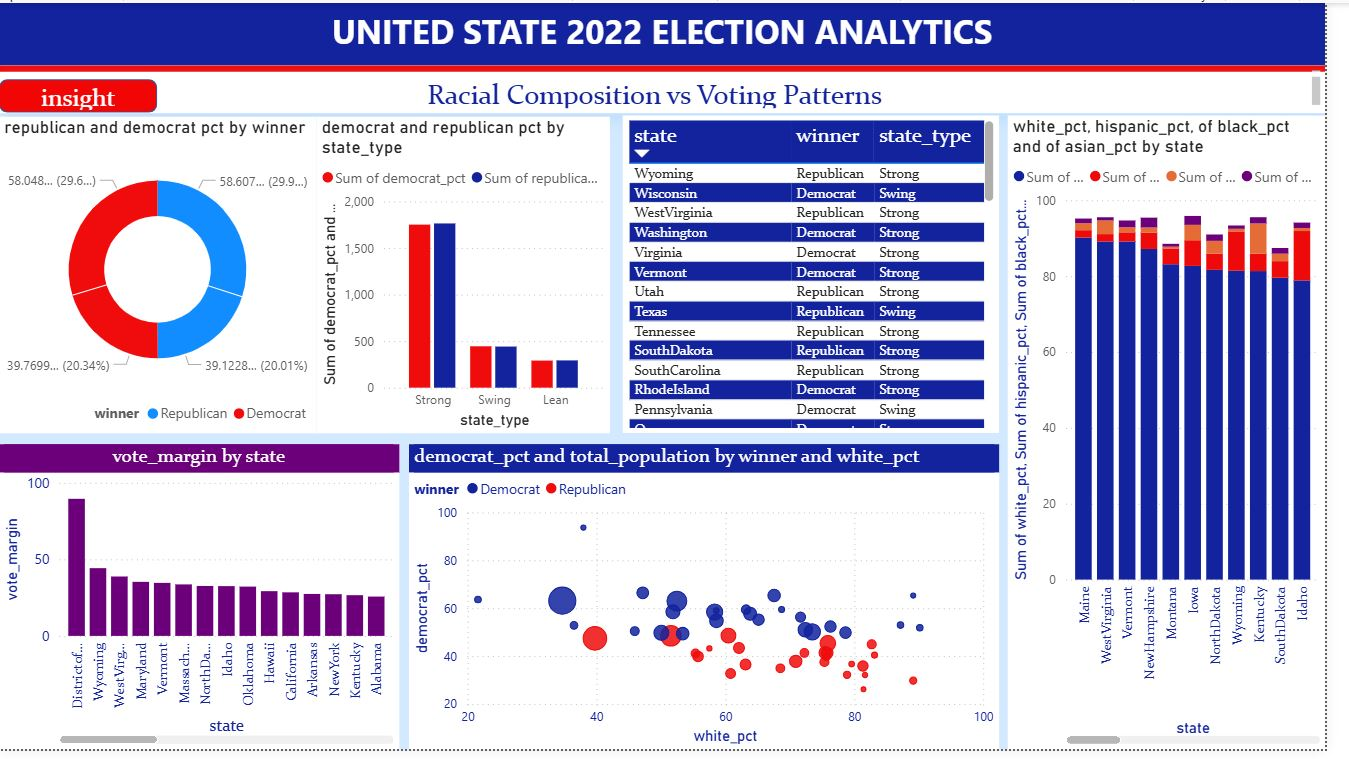

The dashboard page shown, as its layout file describes it:
{"tool":"powerbi","page":{"name":"Race","canvas":[1280,720],"ordinal":5},"visuals":[{"type":"textbox","box":[0,0,1280,60.3],"z":0},{"type":"textbox","box":[0,60.3,1280,12.1],"z":1000},{"type":"textbox","box":[0,66.4,1280,39.8],"z":2000},{"type":"scatterChart","fields":{"X":["people.white_pct"],"Y":["Sum(people.democrat_pct)"],"Series":["people.winner"],"Size":["Sum(gini.total_population)"]},"box":[395.7,425.9,569.4,294.4],"z":3000},{"type":"columnChart","title":" white_pct, hispanic_pct,  of black_pct and of asian_pct by state","fields":{"Y":["Sum(people.white_pct)","Sum(people.hispanic_pct)","Sum(people.black_pct)","Sum(people.asian_pct)"],"Category":["people.state"]},"box":[973.6,108.6,306.4,611.7],"z":4000},{"type":"donutChart","title":"republican and  democrat pct by winner","fields":{"Category":["people.winner"],"Y":["Avg(people.republican_pct)","Avg(people.democrat_pct)"]},"box":[0,109.8,306.4,305.2],"z":5000},{"type":"tableEx","fields":{"Values":["people.state","people.winner","people.state_type"]},"box":[602,108.6,363.1,306.4],"z":6000},{"type":"clusteredColumnChart","fields":{"Category":["people.state"],"Y":["Sum(people.vote_margin)"]},"box":[0,425.9,386.1,294.4],"z":7000},{"type":"clusteredColumnChart","title":"democrat and republican pct by state_type","fields":{"Category":["people.state_type"],"Y":["Sum(people.democrat_pct)","Sum(people.republican_pct)"]},"box":[306.4,109.8,283.5,305.2],"z":8000},{"type":"shape","box":[0,73.2,152.7,32.3],"z":9000}]}

Visuals, with their boxes in screenshot pixels (x1, y1, x2, y2), scaled from the page's 1280x720 canvas onto the 1349x759 screenshot:
textbox: {"left": 0, "top": 0, "right": 1348, "bottom": 64}
textbox: {"left": 0, "top": 64, "right": 1348, "bottom": 76}
textbox: {"left": 0, "top": 70, "right": 1348, "bottom": 112}
scatterChart - people.white_pct x Sum(people.democrat_pct): {"left": 417, "top": 449, "right": 1017, "bottom": 758}
" white_pct, hispanic_pct,  of black_pct and of asian_pct by state" columnChart: {"left": 1026, "top": 114, "right": 1348, "bottom": 758}
"republican and  democrat pct by winner" donutChart: {"left": 0, "top": 116, "right": 323, "bottom": 437}
tableEx - people.state x people.winner: {"left": 634, "top": 114, "right": 1017, "bottom": 437}
clusteredColumnChart - people.state x Sum(people.vote_margin): {"left": 0, "top": 449, "right": 407, "bottom": 758}
"democrat and republican pct by state_type" clusteredColumnChart: {"left": 323, "top": 116, "right": 622, "bottom": 437}
shape: {"left": 0, "top": 77, "right": 161, "bottom": 111}
